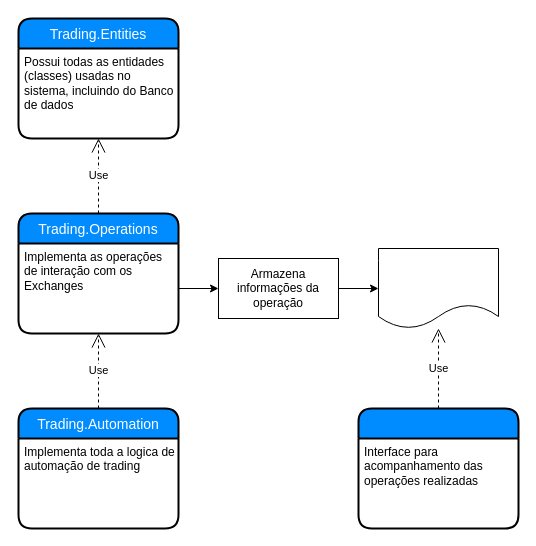
The diagram is 536 pixels wide and 546 high, and some of its shapes have lost their labels. Here are the shapes that lost their labels. From the top down, the box of each, then its label:
(378, 248, 498, 328): Banco de dados
(357, 407, 519, 529): Trading.Report
